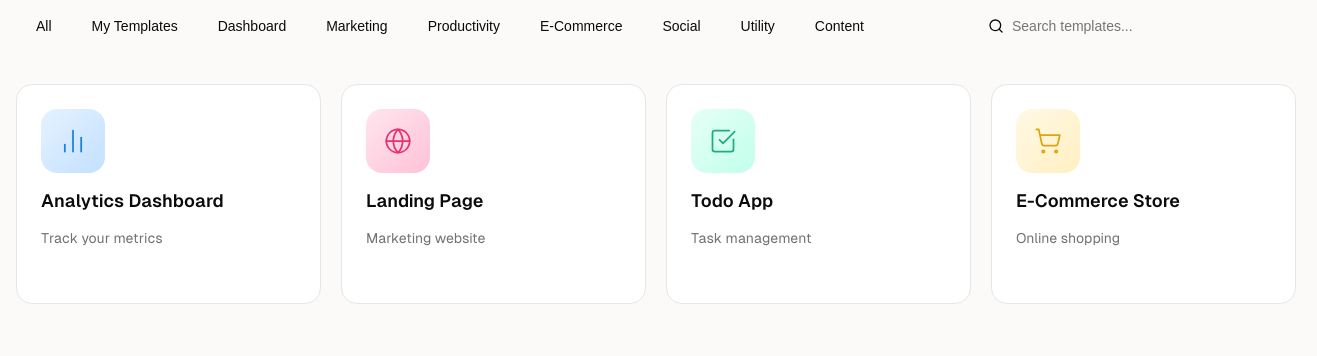
Test case: TemplateGrid › should show clear search button when search query exists
The image size is (1317, 356).
Type "test" into the search field with placeholder "Search templates..." at (1136, 26), box x1=976 y1=6 x2=1296 y2=46
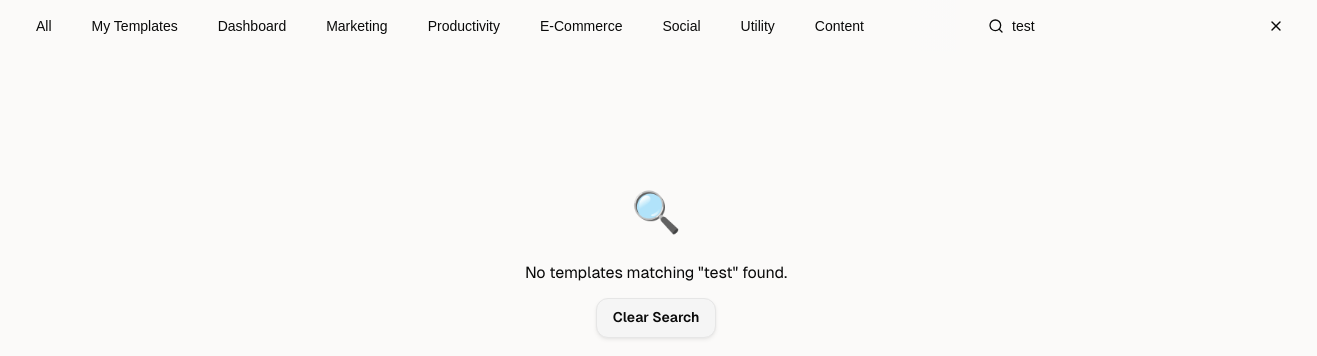
Now the button named "Clear search" is shown
Click the button named "Clear search" at (1276, 26), box x1=1264 y1=14 x2=1288 y2=38
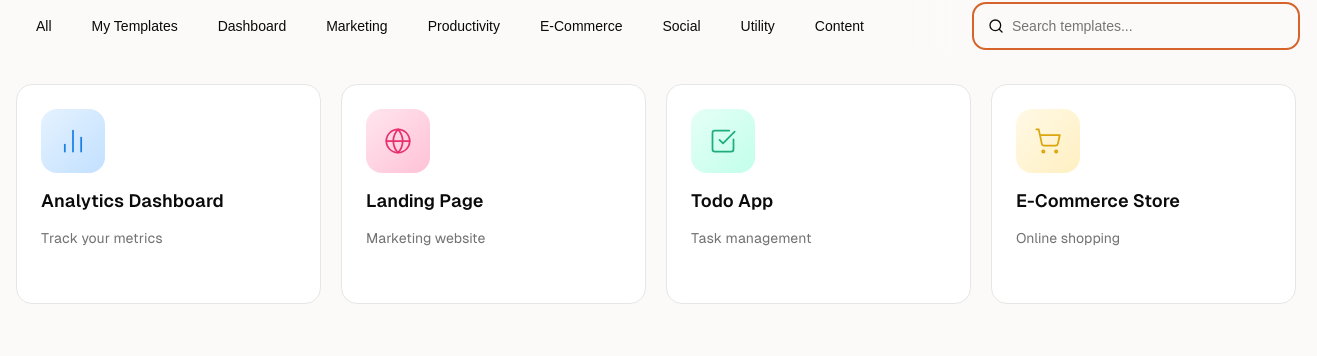
Now the search field with placeholder "Search templates..." is empty, box x1=976 y1=6 x2=1296 y2=46
